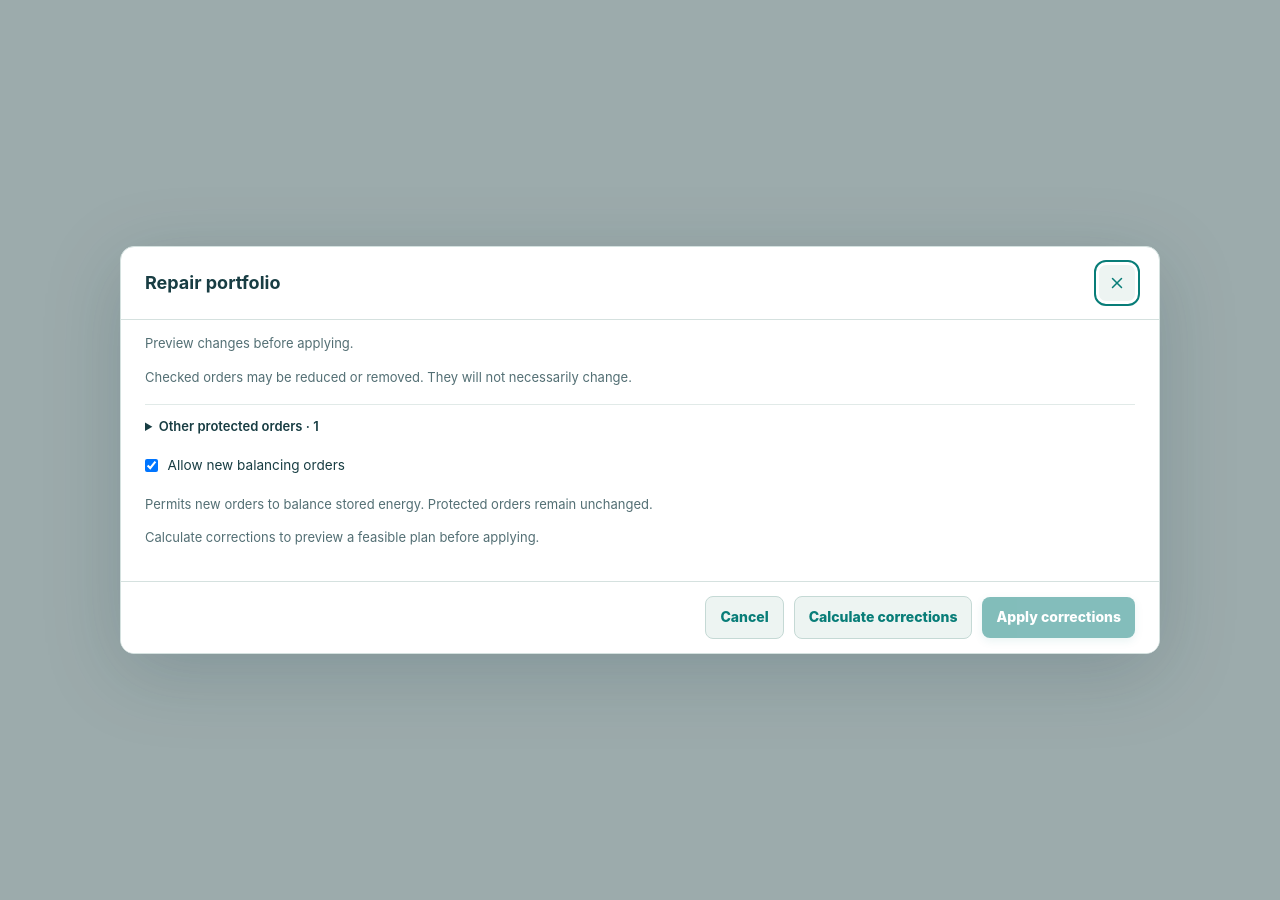
Test case: shows blocked and timeout outcomes without enabling apply
Click the button "Calculate corrections" at (883, 617), box x1=794 y1=596 x2=972 y2=638
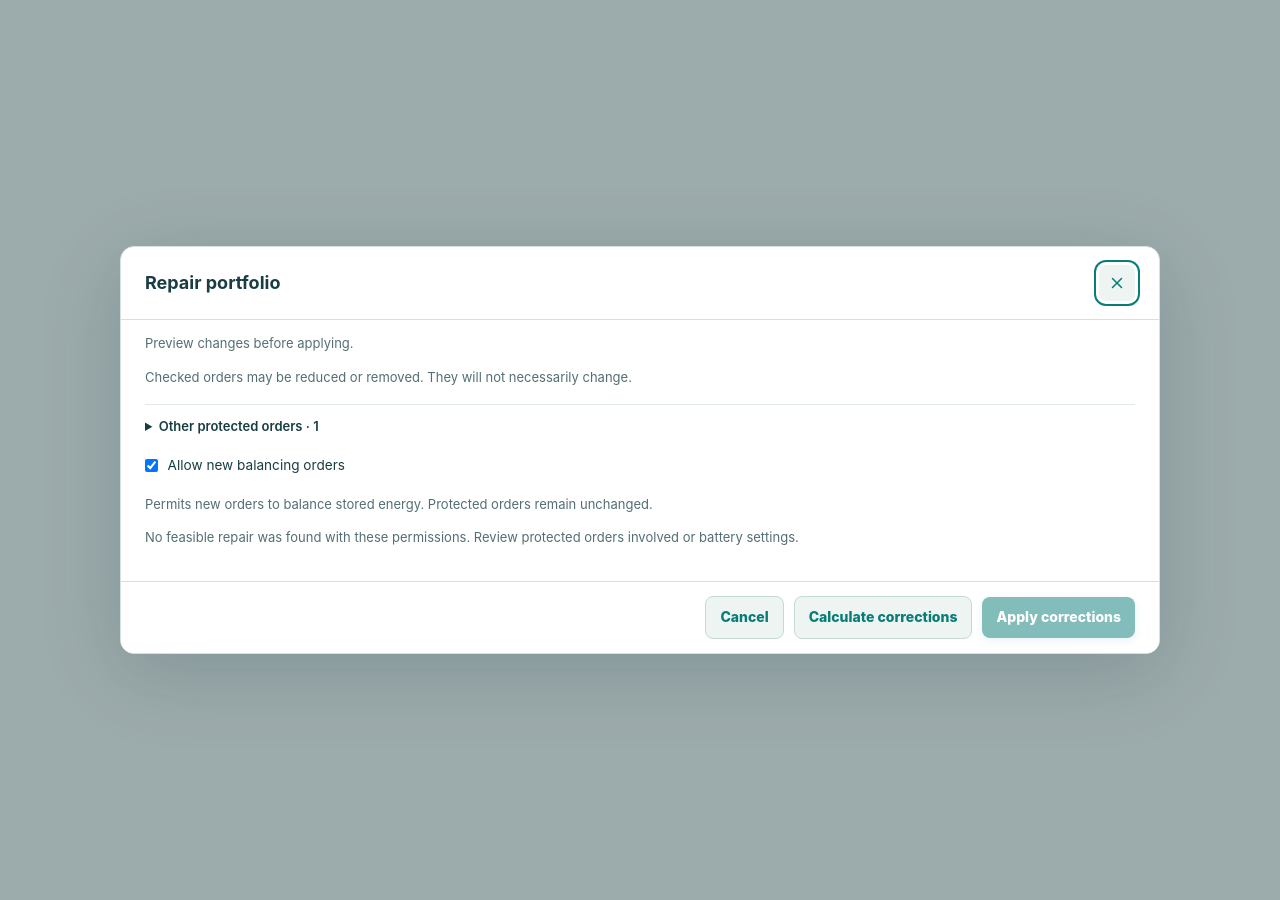
expect the button "Apply corrections" is disabled: met, box x1=982 y1=597 x2=1135 y2=638
expect the text "No feasible repair was found with these permissions" is shown: met, box x1=145 y1=529 x2=799 y2=545
Click the button "Calculate corrections" at (883, 617), box x1=794 y1=596 x2=972 y2=638
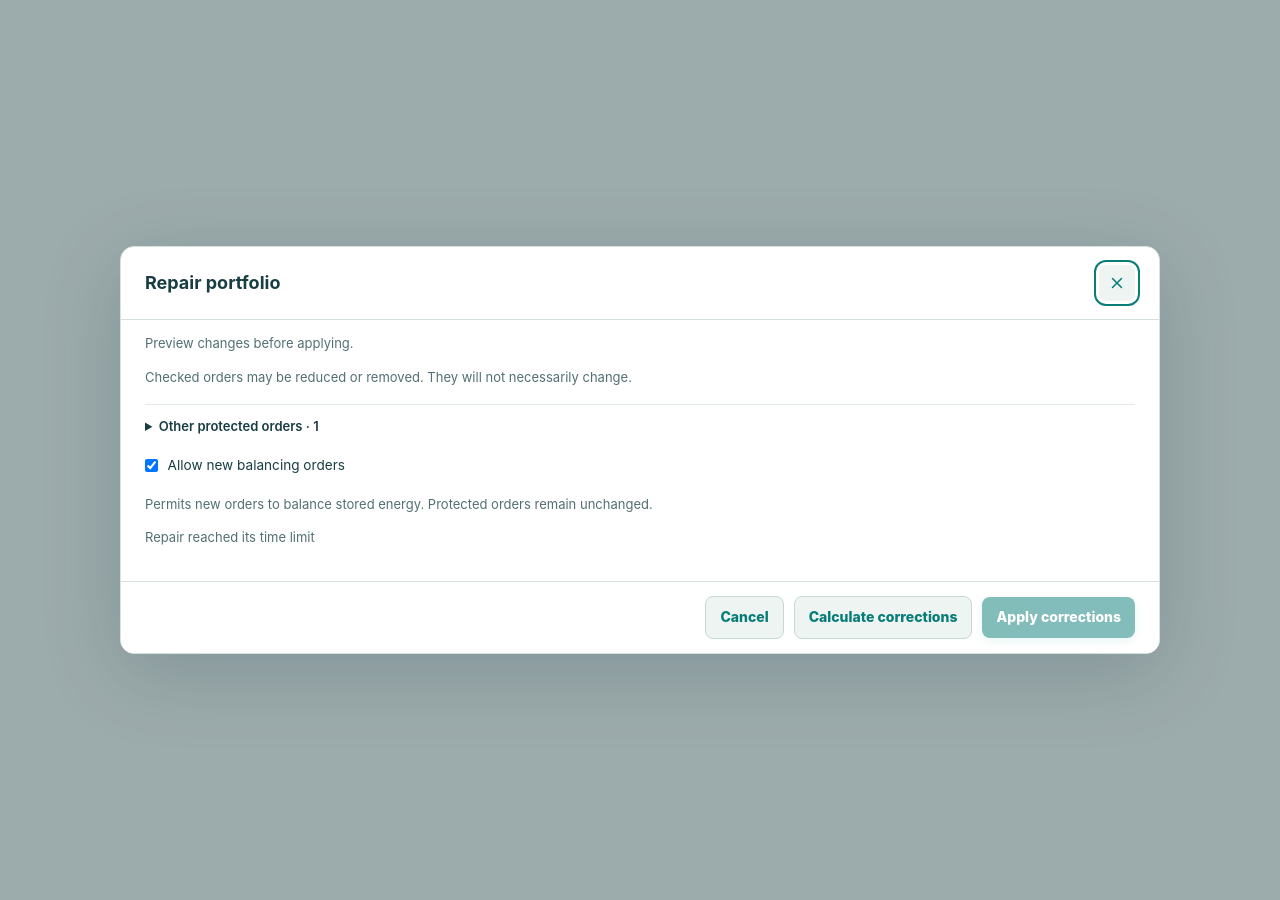
expect the button "Apply corrections" is disabled: met, box x1=982 y1=597 x2=1135 y2=638
expect the text "Repair reached its time limit" is shown: met, box x1=145 y1=529 x2=315 y2=545
